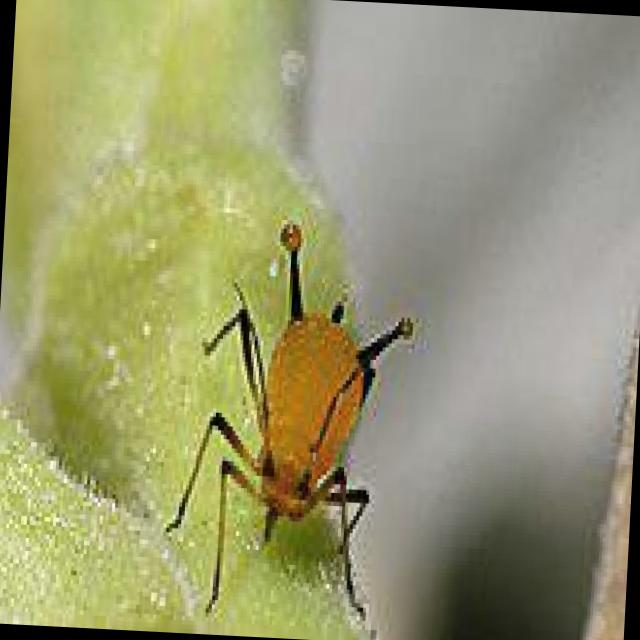Aphids: (165, 228, 441, 628)
